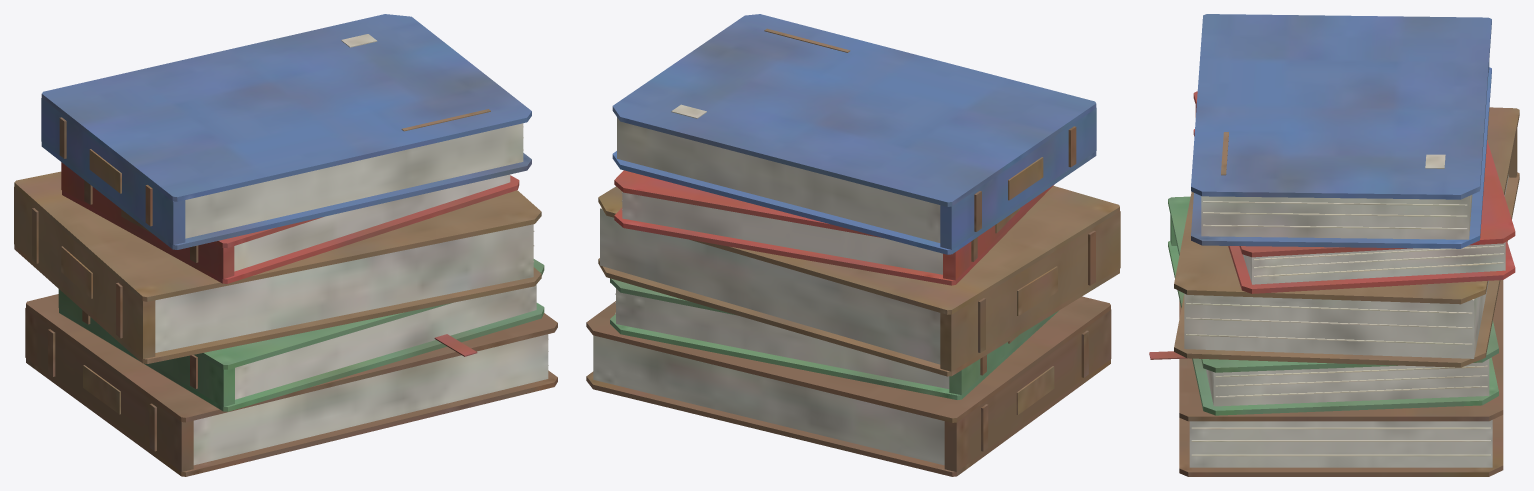
Rendered from Q15_book_piles_v1.glb.
The picture shows the model from 3 angles, left to right: view 1: azimuth 30°, elevation 25°; view 2: azimuth 150°, elevation 25°; view 3: azimuth 270°, elevation 25°; orthographic projection. The views are drawn at different scales.
Parts seen in each view (by area): view 1: Battered lower board; view 2: Battered lower board; view 3: Battered lower board.
Boxes of the visible parts, left/top/right/bottom form: Battered lower board: left=14, top=14, right=557, bottom=476; Battered lower board: left=586, top=14, right=1120, bottom=476; Battered lower board: left=1149, top=14, right=1519, bottom=476.
Size of the model in its own units: 0.4 by 0.2565 by 0.311.
Materials: 7 (7 with a texture image).
